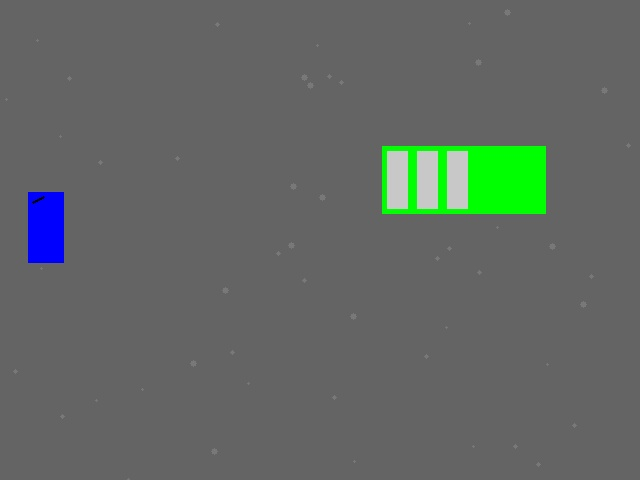bus: (382, 146, 545, 213)
motorcycle: (28, 192, 63, 262)
